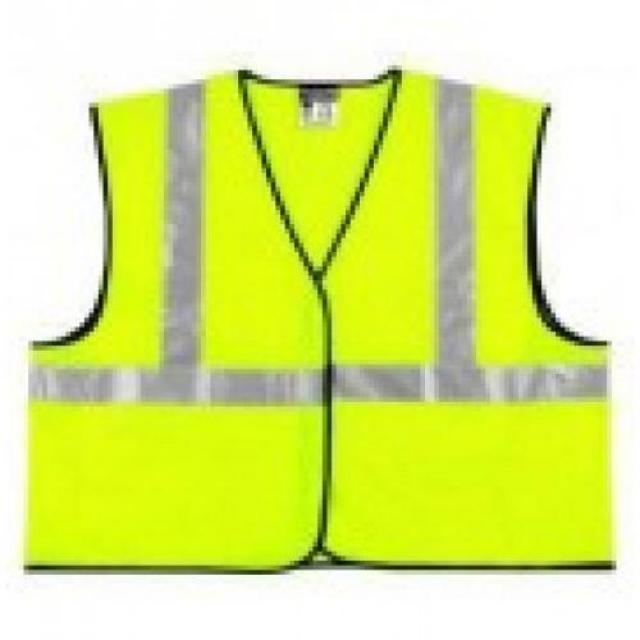Reflective-Jacket: (11, 59, 640, 594)
